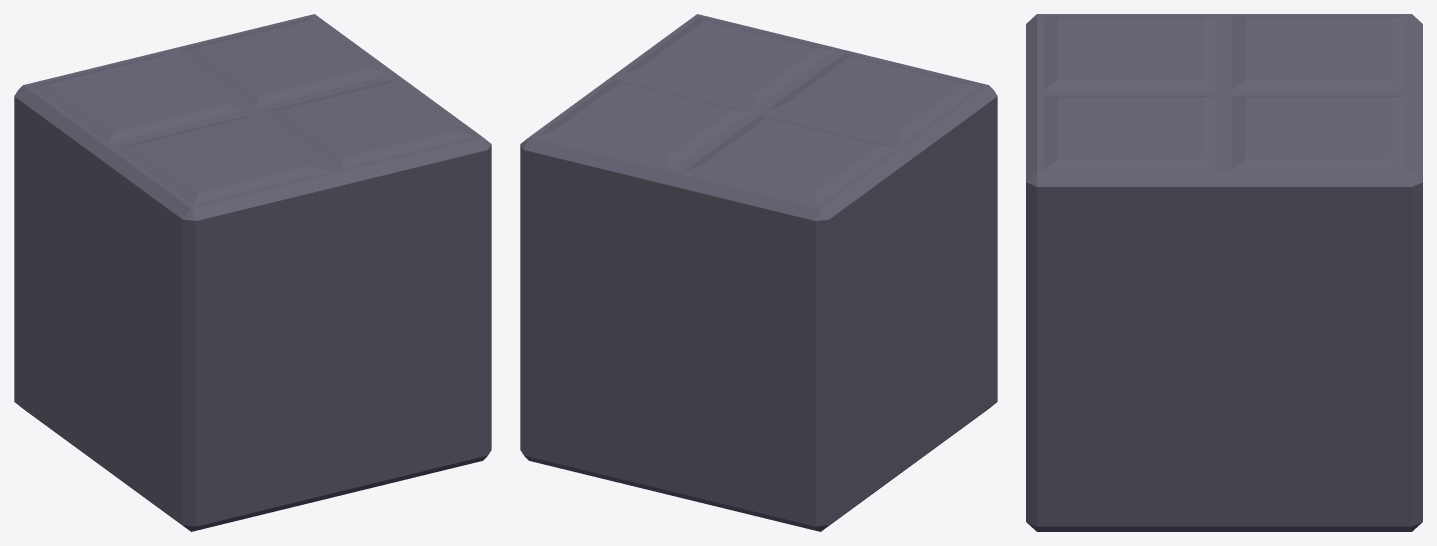
The model's file is tile_floor.glb.
3 renders of one model, left to right at view 1: azimuth 30°, elevation 25°; view 2: azimuth 150°, elevation 25°; view 3: azimuth 270°, elevation 25°, orthographic. The views are drawn at different scales.
Visible parts, largest first — view 1: FloorTile; view 2: FloorTile; view 3: FloorTile.
Part boxes in pixels (x1,y1,x2,y2): FloorTile: (14, 14, 491, 531); FloorTile: (520, 14, 997, 531); FloorTile: (1026, 14, 1422, 531).
Bounding box in the file's own units: 6 × 6.08 × 6.
1 material, 1 textured.
